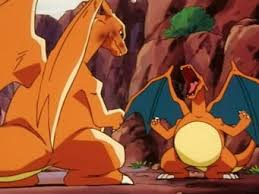charizard: (1, 2, 135, 192), (123, 54, 259, 193)
